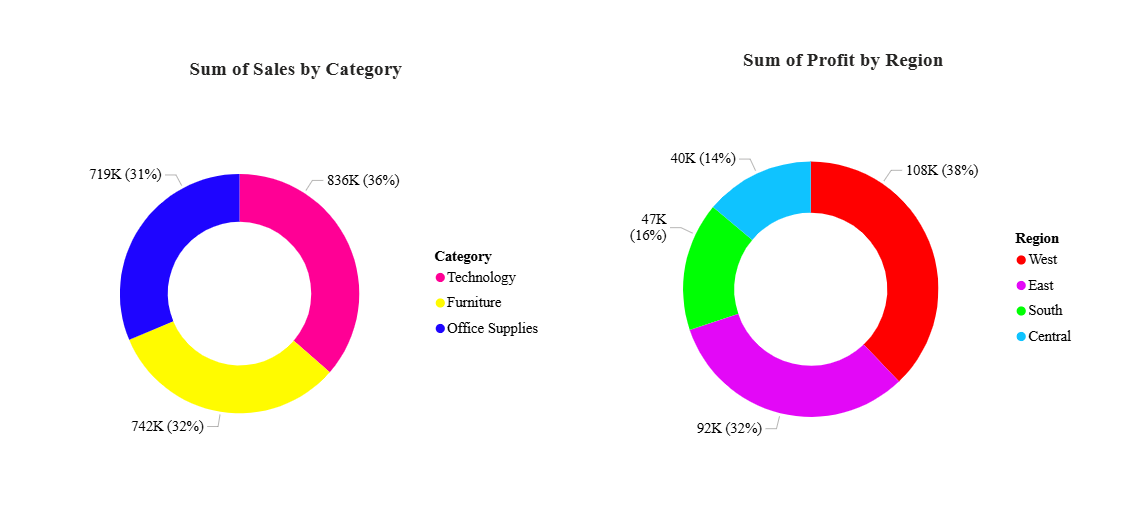

This screenshot's page, from the dashboard's own definition file:
{"tool":"powerbi","page":{"name":"Page 7","canvas":[1280,720],"ordinal":6},"visuals":[{"type":"donutChart","fields":{"Y":["Sum(Superstore.Sales)"],"Category":["Superstore.Category"]},"box":[64.5,89.2,559.9,495.4],"z":0},{"type":"donutChart","fields":{"Y":["Sum(Superstore.Profit)"],"Category":["Superstore.Region"]},"box":[680.6,79.6,529.7,505],"z":1000}]}

Visuals, with their boxes on the page's 1280x720 design canvas (x1, y1, x2, y2). These are canvas units, not pixel positions in the 1143x522 screenshot, which may show the page scaled, cropped or inside an application window:
donutChart - Sum(Superstore.Sales) x Superstore.Category: [64,89,624,585]
donutChart - Sum(Superstore.Profit) x Superstore.Region: [681,80,1210,585]
